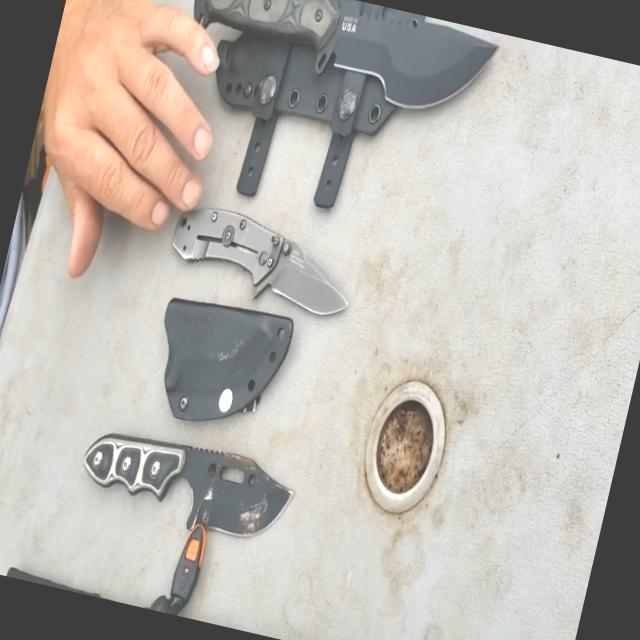knife: (140, 0, 505, 187), (80, 401, 310, 552), (153, 180, 369, 334)
